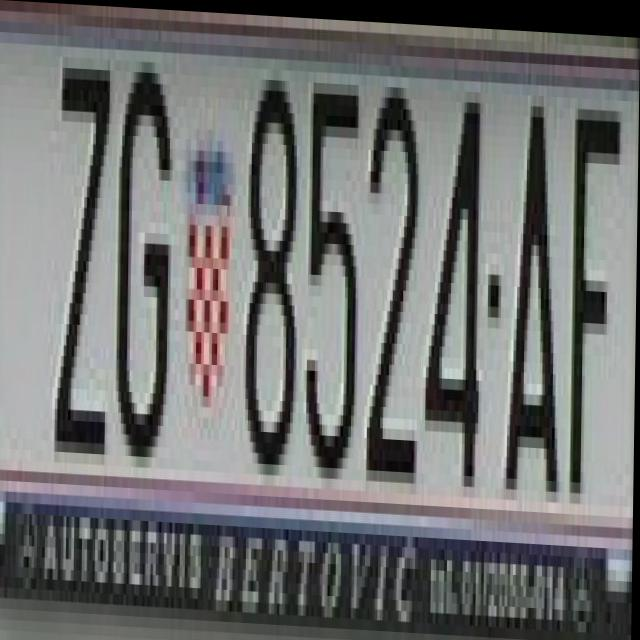2: (365, 102, 422, 468)
4: (423, 94, 483, 481)
5: (299, 67, 359, 465)
8: (246, 65, 295, 462)
A: (508, 98, 562, 485)
F: (563, 79, 621, 477)
G: (108, 58, 177, 456)
Z: (56, 35, 111, 442)
